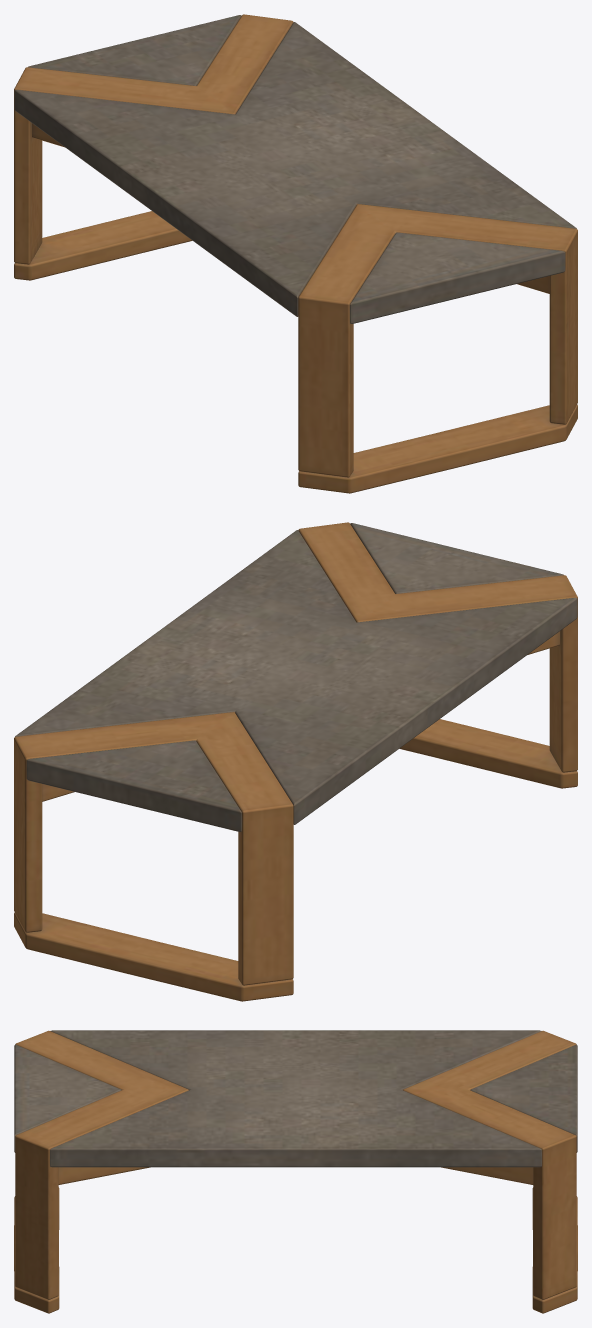
File: modern_coffee_table_01.glb
3 renders of one model, top to bottom at view 1: azimuth 30°, elevation 25°; view 2: azimuth 150°, elevation 25°; view 3: azimuth 270°, elevation 25°, orthographic. The views are drawn at different scales.
Parts seen in each view (by area): view 1: modern_coffee_table_01; view 2: modern_coffee_table_01; view 3: modern_coffee_table_01.
Boxes of the visible parts, x1,y1,x2,y2 form: modern_coffee_table_01: (14, 14, 577, 493); modern_coffee_table_01: (14, 522, 577, 1001); modern_coffee_table_01: (14, 1030, 577, 1313).
Size of the model in its own units: 0.6 by 0.39 by 1.2.
1 material, 1 textured.
